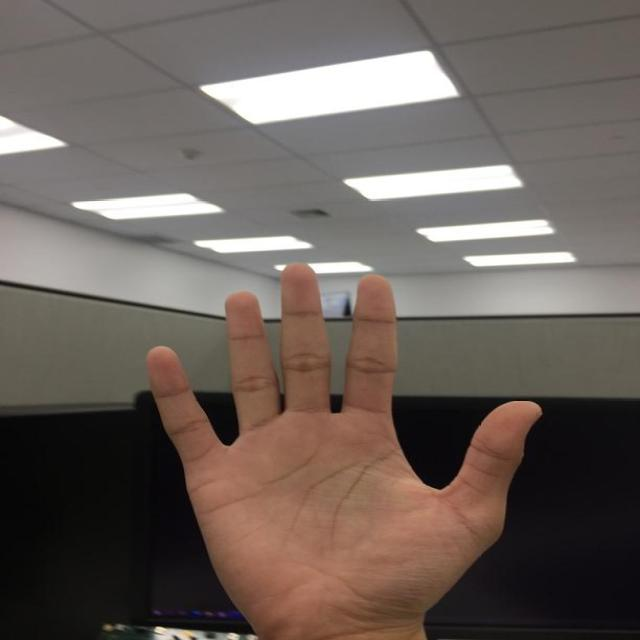no-gloves: (140, 264, 548, 640)
